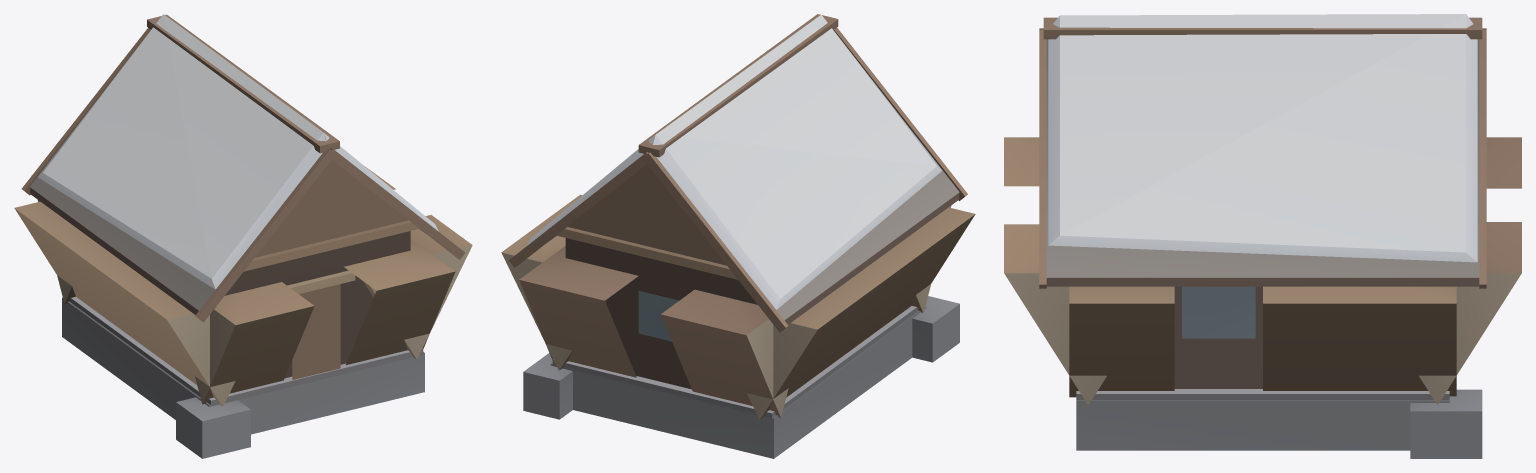
The model's file is logcabin.lod2.glb.
The picture shows the model from 3 angles, left to right: view 1: azimuth 30°, elevation 25°; view 2: azimuth 150°, elevation 25°; view 3: azimuth 270°, elevation 25°; orthographic projection. The views are drawn at different scales.
Bounding box in the file's own units: 8.51 × 7.76 × 9.84.
